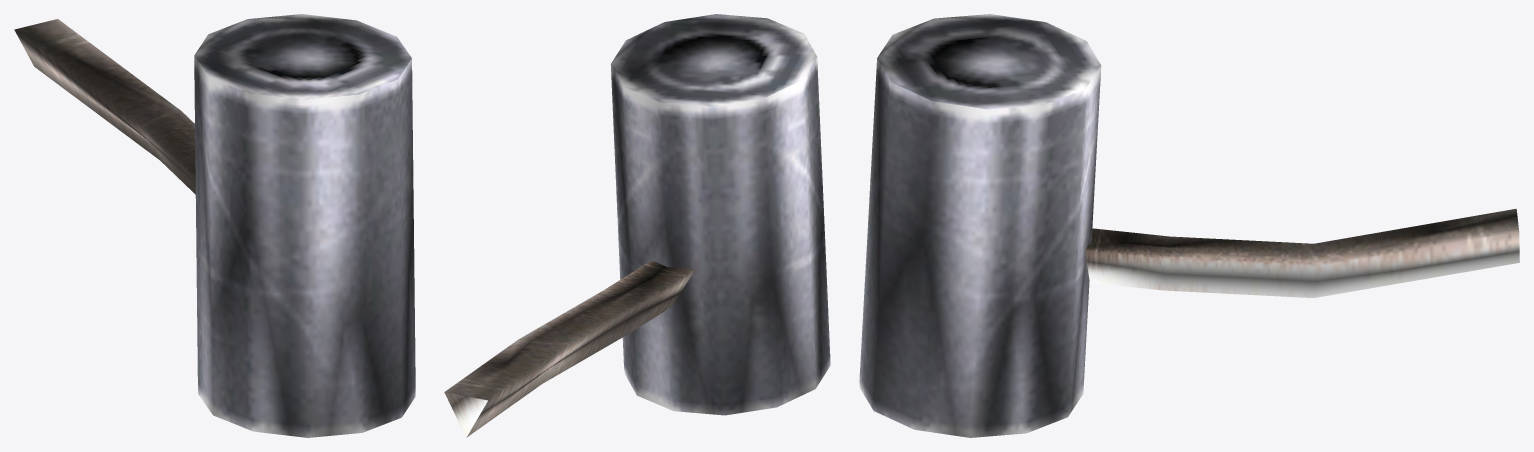
File: Robot01.LeftShoulder4.fbx
The picture shows the model from 3 angles, left to right: view 1: azimuth 30°, elevation 25°; view 2: azimuth 150°, elevation 25°; view 3: azimuth 270°, elevation 25°; orthographic projection. The views are drawn at different scales.
Visible parts, largest first — view 1: Robot.007; view 2: Robot.007; view 3: Robot.007.
Part boxes in pixels (bbox=[...]): Robot.007: bbox=[14, 14, 415, 437]; Robot.007: bbox=[444, 14, 830, 437]; Robot.007: bbox=[859, 14, 1519, 437].
Bounding box in the file's own units: 13.57 × 22.89 × 40.43.
